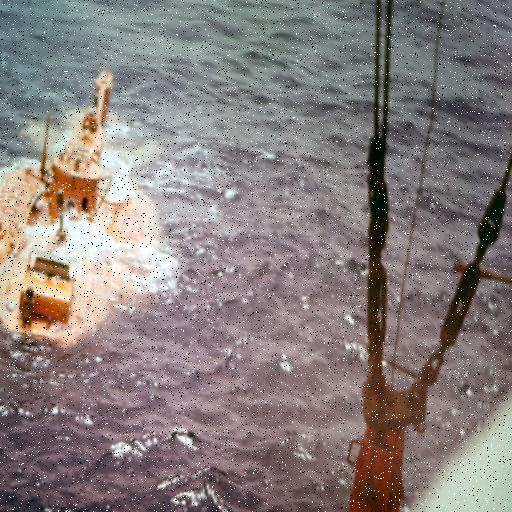submarine: (1, 63, 169, 345)
